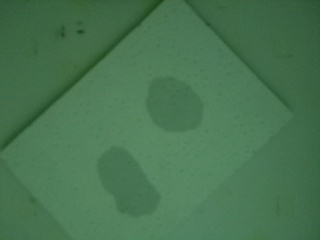Water_detected: (101, 153, 158, 213), (152, 76, 201, 135)
